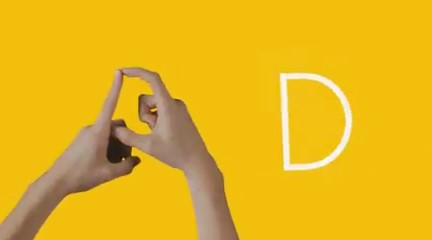D: (61, 64, 208, 194)
